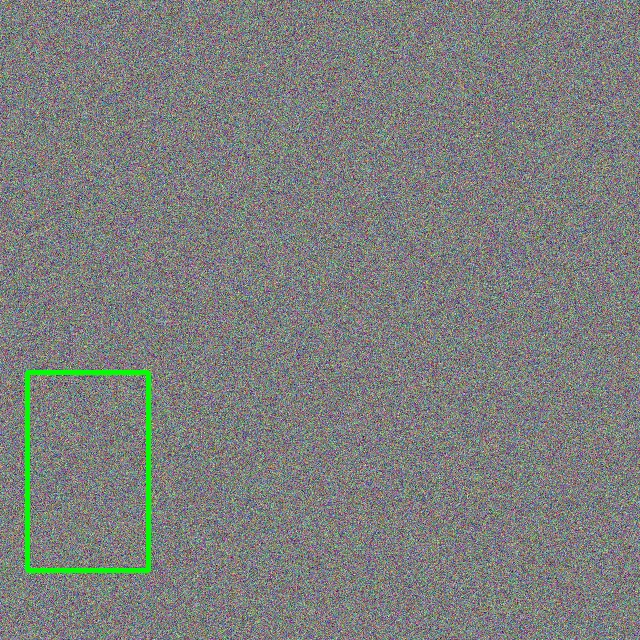base: (27, 372, 148, 570)
